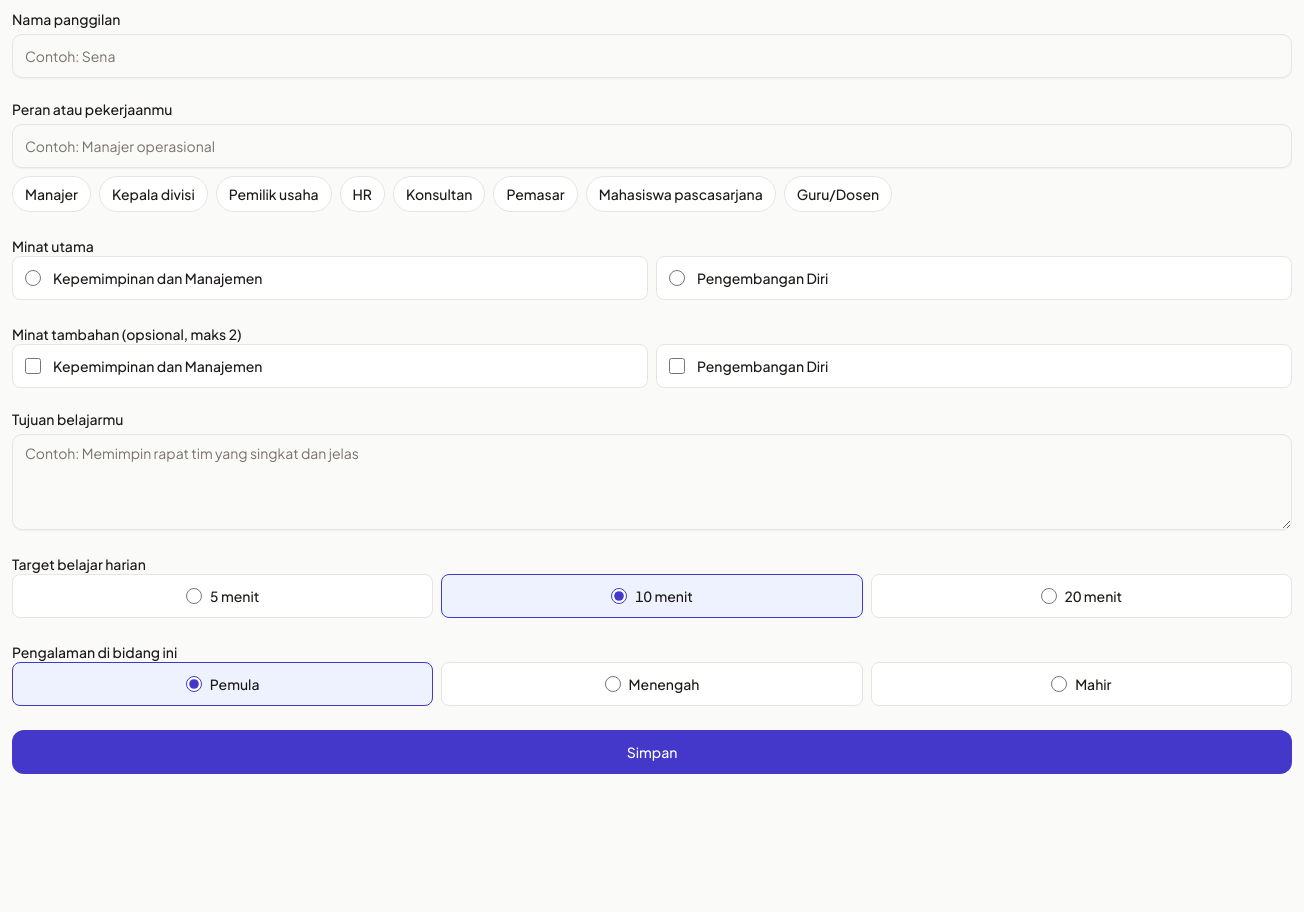
LearningProfileForm › shows a field error from the action and keeps the typed values
Type "Manajer Produk" into the field labelled "Peran atau pekerjaanmu" at (652, 146), box [12,124,1292,168]
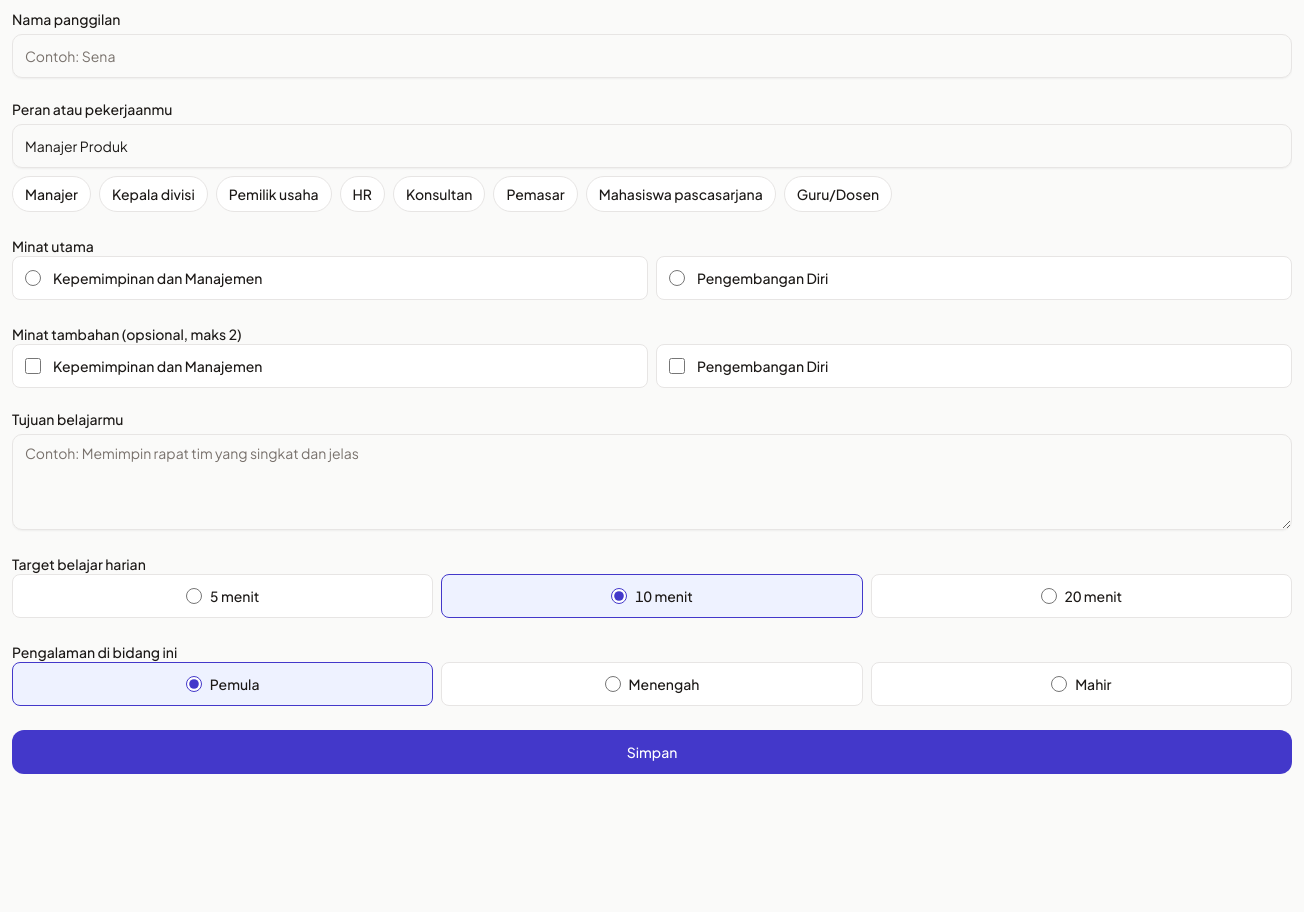
Submit the form named "Simpan"
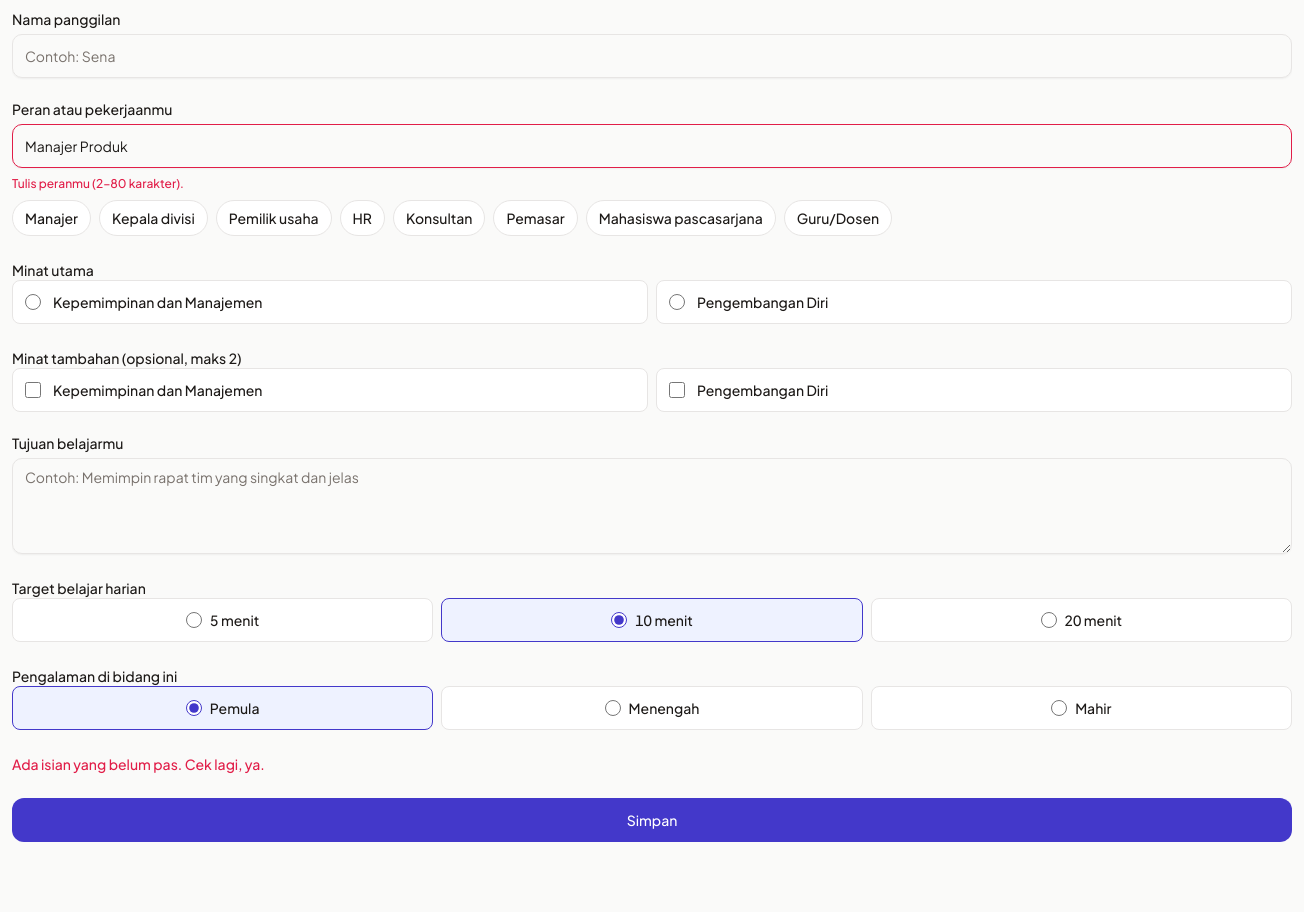
Result: the text "Tulis peranmu (2–80 karakter)." is shown at [12,176,184,191]
